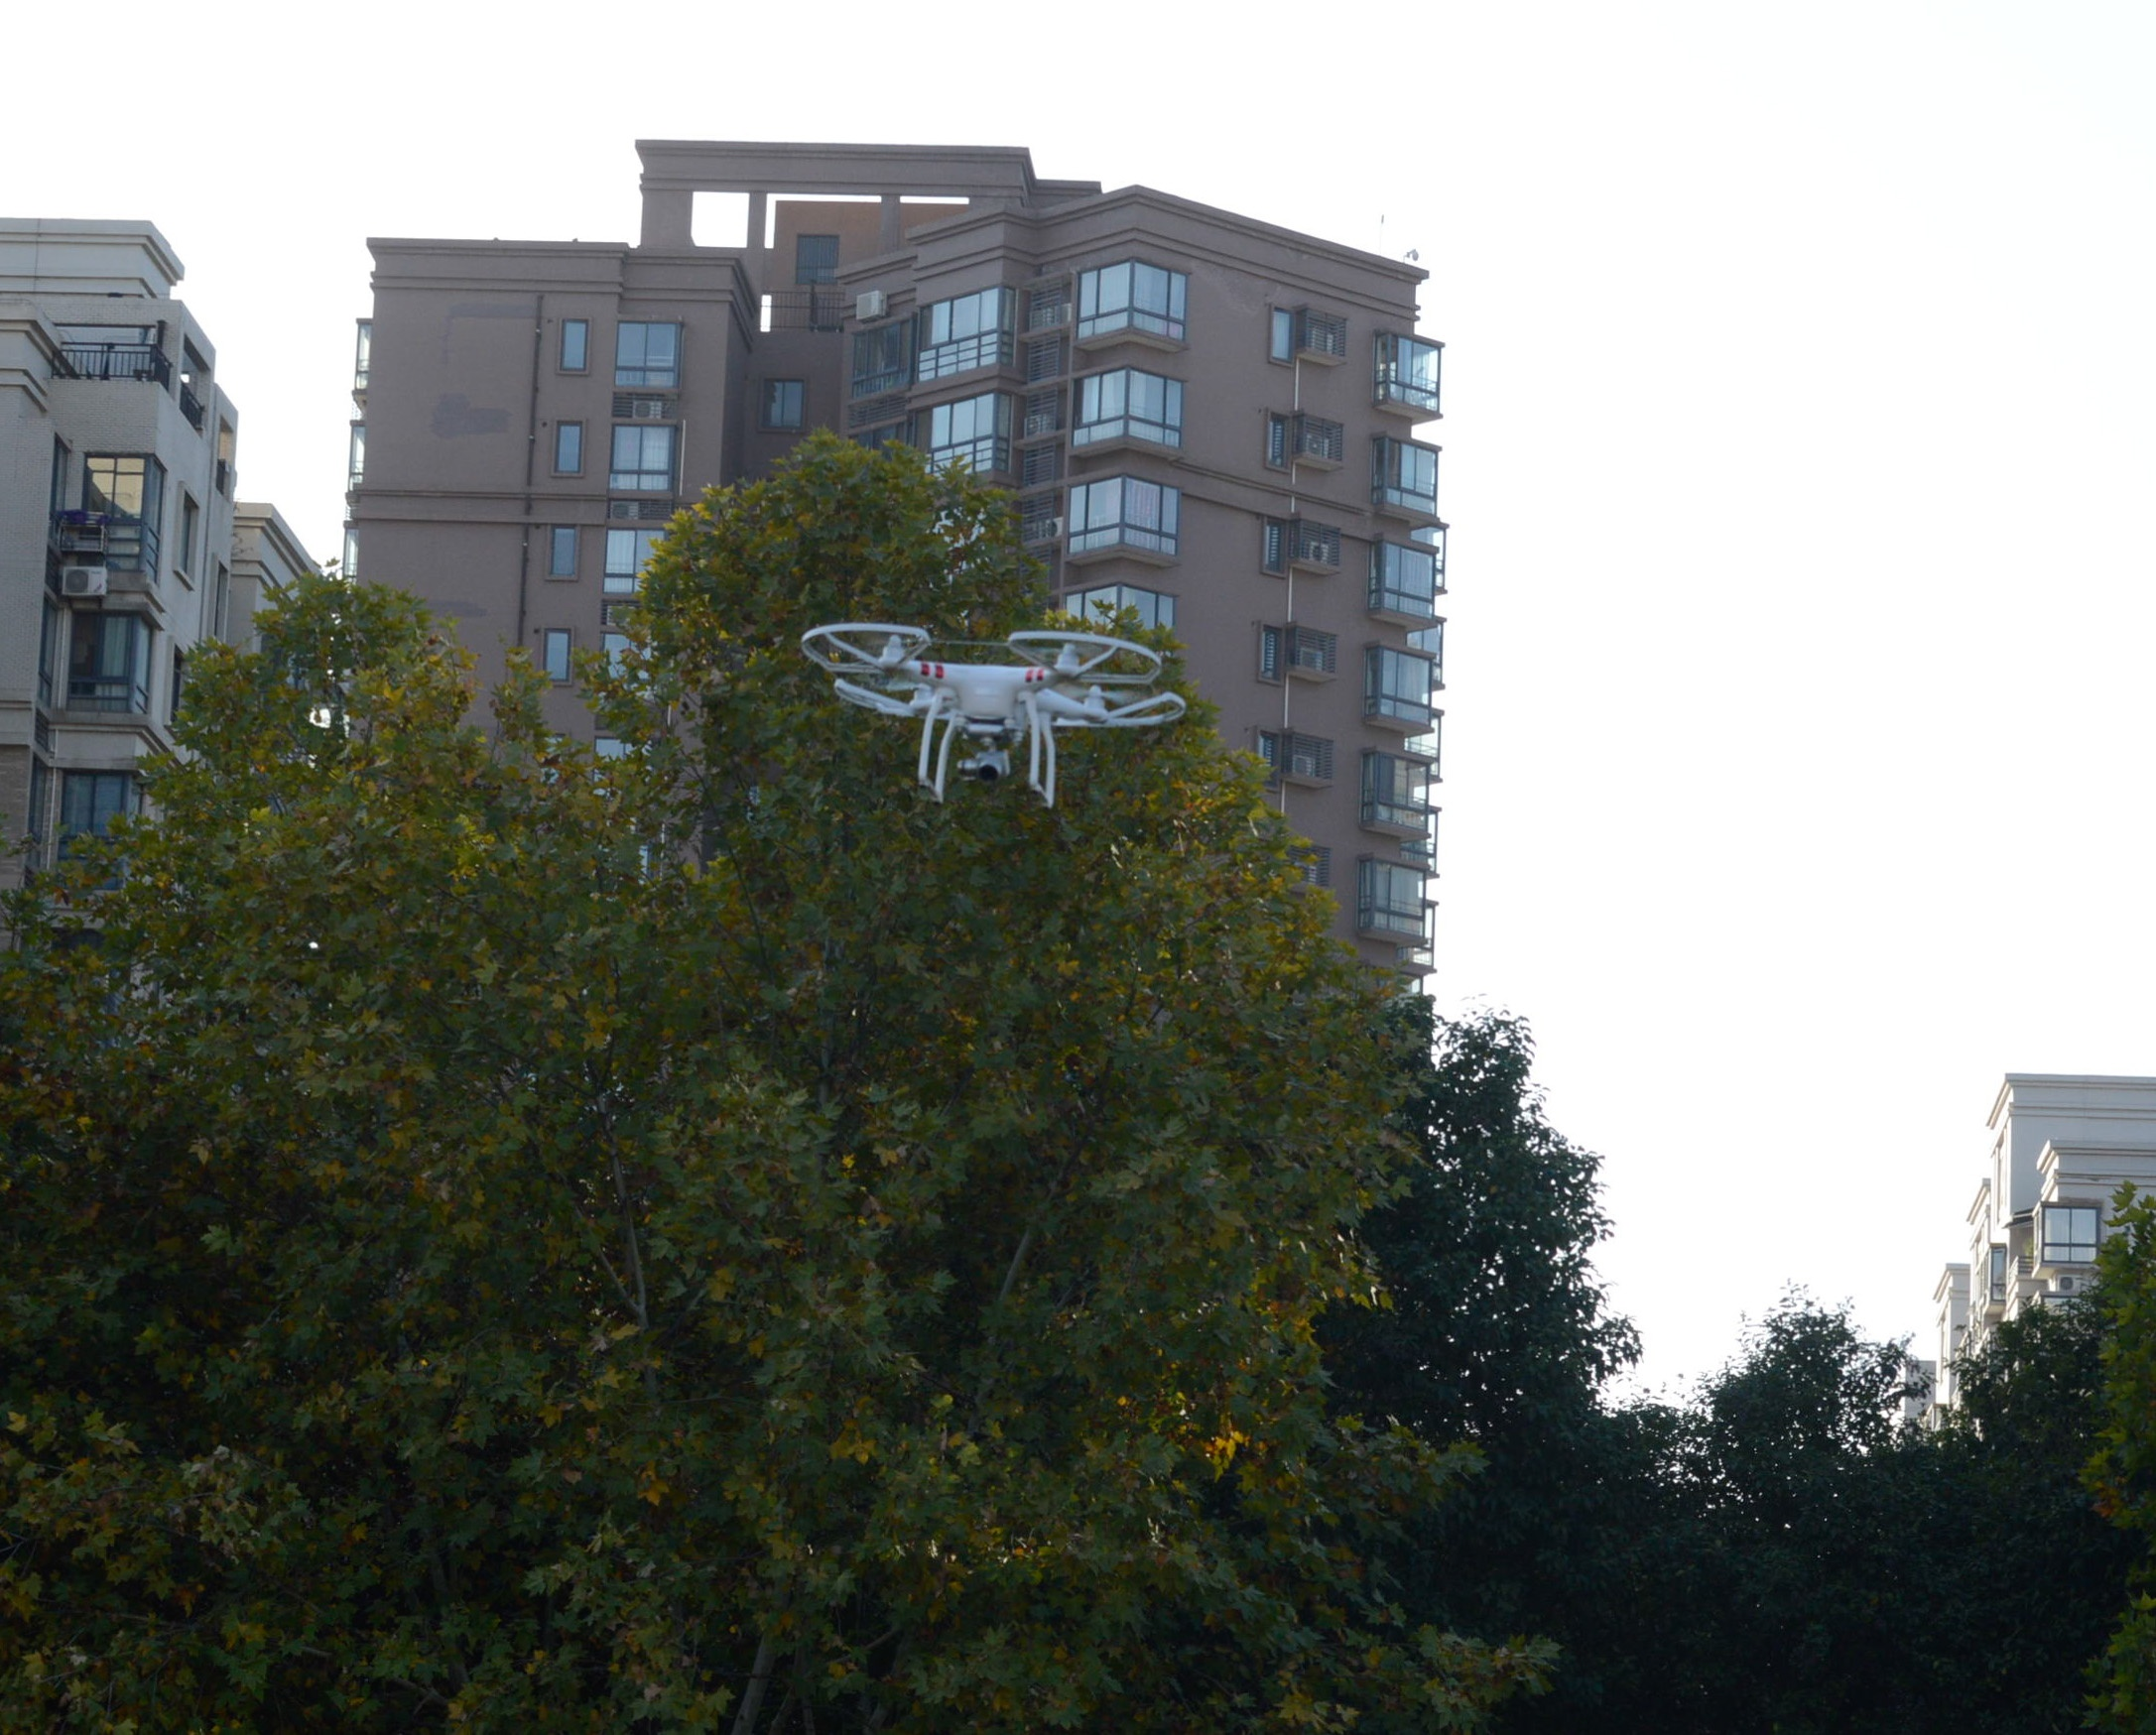DJI: (802, 609, 1188, 807)
